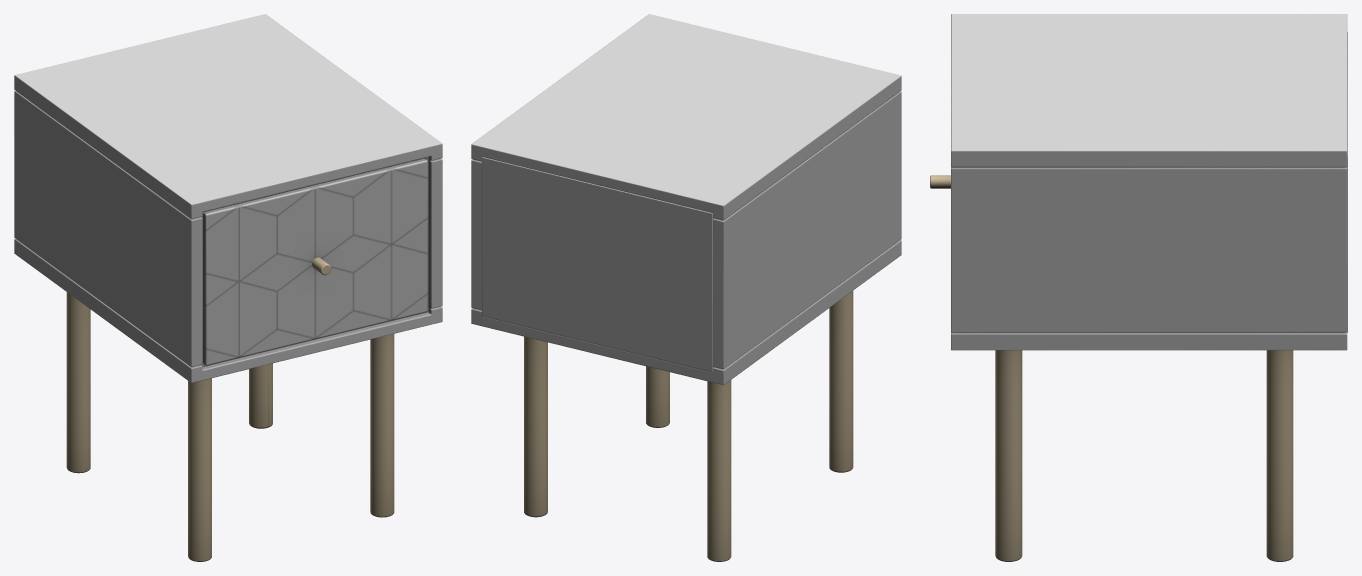
File: hedra_bedside_table_grey_and_brass.glb
3 views of the same model, side by side, from view 1: azimuth 30°, elevation 25°; view 2: azimuth 150°, elevation 25°; view 3: azimuth 270°, elevation 25° (orthographic). The views are drawn at different scales.
Parts seen in each view (by area): view 1: GREY001, GREY_PATTERN001, BRASS001; view 2: GREY001, BRASS001; view 3: GREY001, BRASS001.
Part boxes in pixels (box(x1,y1,x2,y2)): GREY001: box(14, 14, 442, 382); GREY_PATTERN001: box(203, 158, 427, 365); BRASS001: box(66, 257, 394, 561); GREY001: box(471, 14, 901, 385); BRASS001: box(524, 291, 853, 561); GREY001: box(951, 14, 1347, 350); BRASS001: box(930, 175, 1293, 561).
Size of what is drawn, in the model's own units: 36 by 52 by 46.35.
4 materials, 3 textured.
